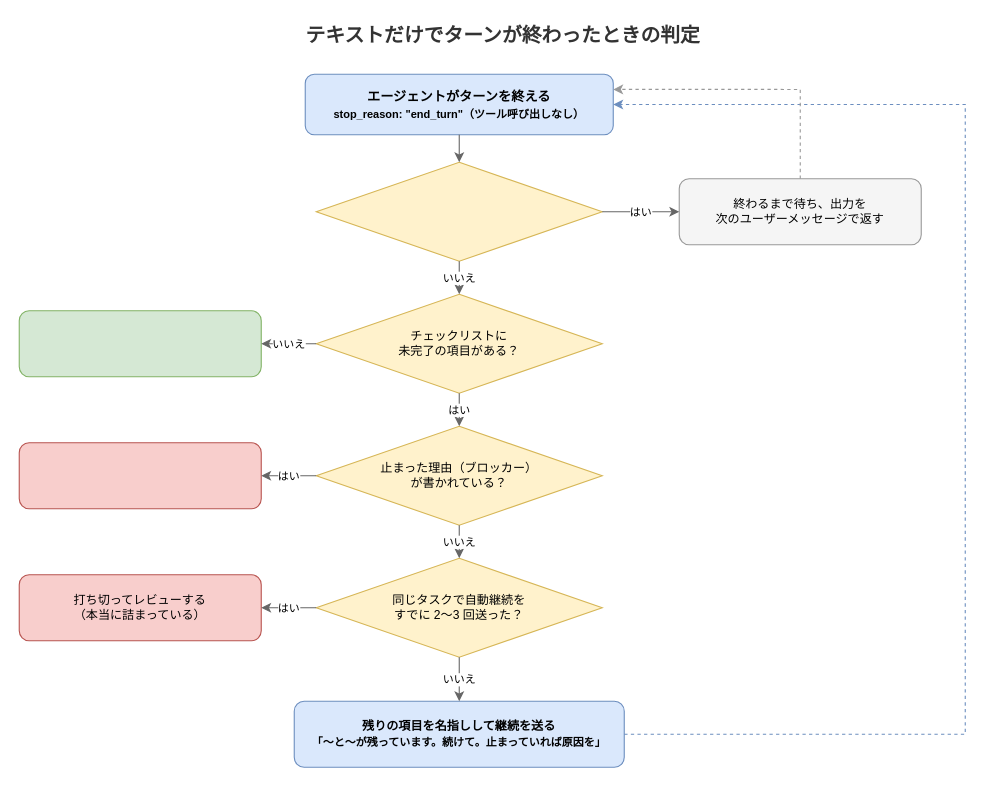
Some shapes in this 993 by 787 pixel diagram are drawn without their labels. Here are the shapes that lost their labels. From the top down, the centre of each, then its label:
the point at 458,211: 裏で動いているものがある？ バックグラウンドコマンド・サブエージェント
the point at 139,343: 完了扱い。 中身は人が読んで動かして確かめる
the point at 139,475: 人に判断を返す
